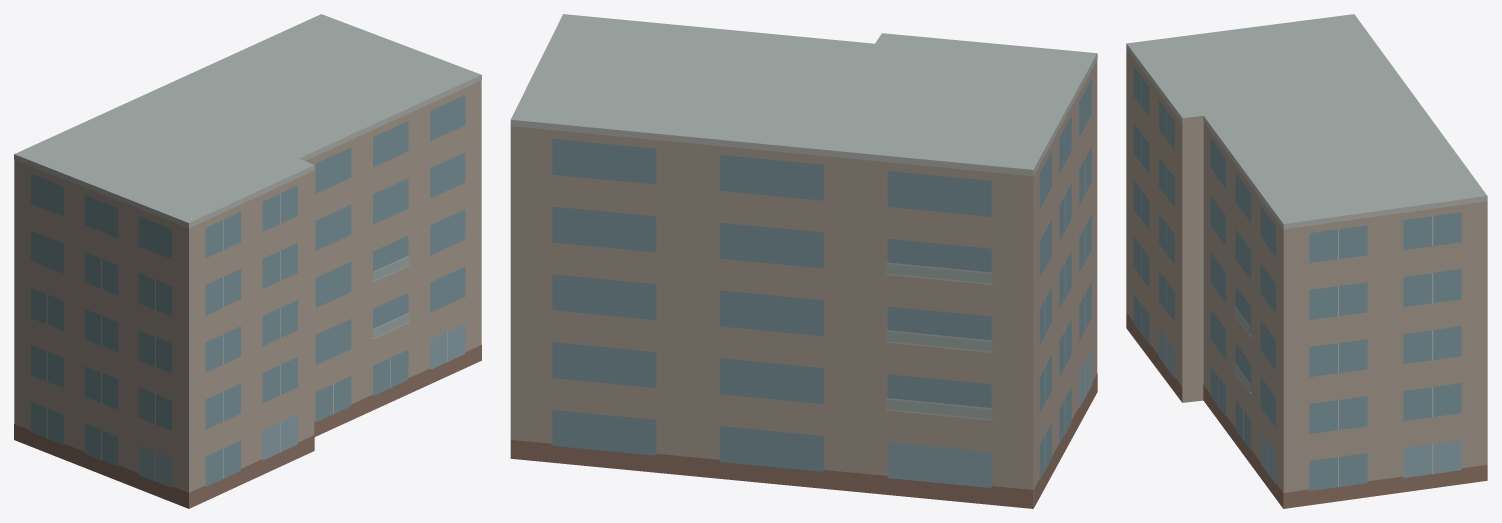
Rendered from survey-upis-32621769.glb.
3 views of the same model, side by side, from view 1: azimuth 30°, elevation 25°; view 2: azimuth 150°, elevation 25°; view 3: azimuth 270°, elevation 25° (orthographic). The views are drawn at different scales.
Visible parts, largest first — view 1: survey-upis-32621769.tmp; view 2: survey-upis-32621769.tmp; view 3: survey-upis-32621769.tmp.
Boxes of the visible parts, x1,y1,x2,y2 form: survey-upis-32621769.tmp: (14,14,481,508); survey-upis-32621769.tmp: (510,14,1097,508); survey-upis-32621769.tmp: (1126,14,1487,508).
Bounding box in the file's own units: 20.74 × 13.1 × 15.06.
